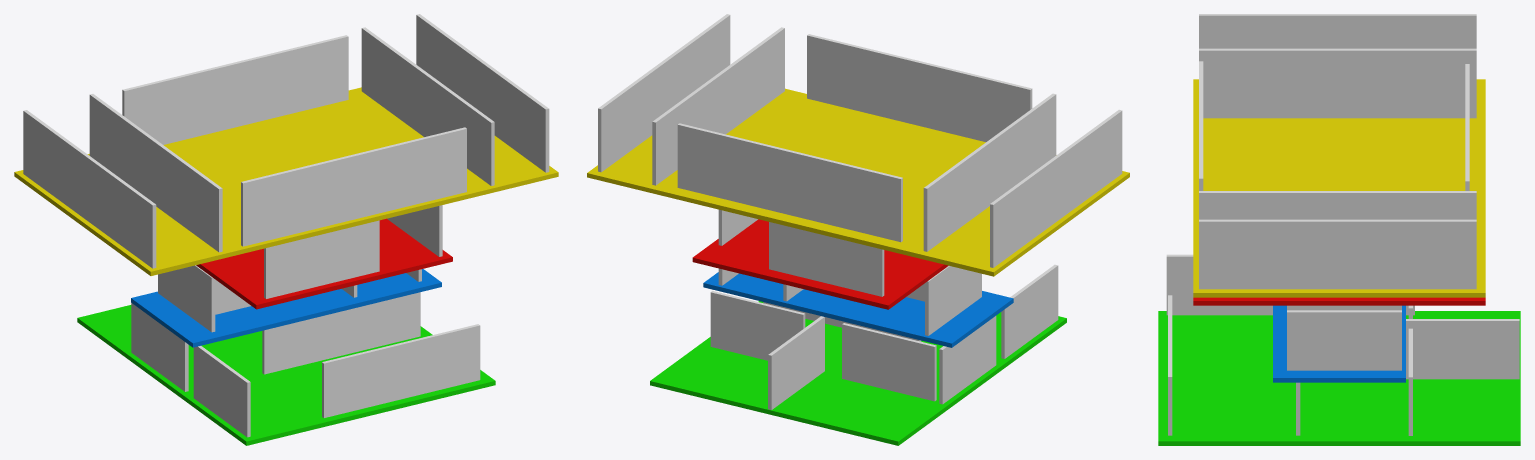
The model's file is building_01.glb.
3 views of the same model, side by side, from view 1: azimuth 30°, elevation 25°; view 2: azimuth 150°, elevation 25°; view 3: azimuth 270°, elevation 25° (orthographic). The views are drawn at different scales.
Parts seen in each view (by area): view 1: Room_04, Wall_21, Wall_20, Room_01, Wall_01, Wall_17, Wall_18, Wall_19, Wall_16, Wall_02, Room_02, Wall_12 (+6 smaller); view 2: Room_04, Room_01, Wall_20, Wall_21, Wall_17, Wall_18, Wall_16, Wall_19, Room_02, Room_03, Wall_13, Wall_04 (+6 smaller); view 3: Room_01, Room_04, Wall_16, Wall_18, Wall_17, Wall_19, Wall_09, Wall_05, Room_02, Room_03, Wall_06, Wall_01 (+4 smaller).
Boxes of the visible parts, left/top/right/bottom form: Room_04: left=14, top=87, right=558, bottom=275; Wall_21: left=241, top=127, right=466, bottom=246; Wall_20: left=122, top=35, right=348, bottom=144; Room_01: left=77, top=305, right=495, bottom=445; Wall_01: left=322, top=324, right=480, bottom=417; Wall_17: left=23, top=110, right=156, bottom=268; Wall_18: left=89, top=94, right=222, bottom=252; Wall_19: left=361, top=27, right=494, bottom=185; Wall_16: left=416, top=14, right=549, bottom=172; Wall_02: left=262, top=292, right=420, bottom=374; Room_02: left=131, top=269, right=441, bottom=347; Wall_12: left=264, top=220, right=379, bottom=298; Room_04: left=587, top=88, right=1129, bottom=276; Room_01: left=650, top=301, right=1066, bottom=445; Wall_20: left=677, top=123, right=902, bottom=242; Wall_21: left=807, top=34, right=1032, bottom=141; Wall_17: left=990, top=109, right=1122, bottom=267; Wall_18: left=923, top=93, right=1056, bottom=251; Wall_16: left=598, top=14, right=730, bottom=172; Wall_19: left=652, top=27, right=784, bottom=185; Room_02: left=703, top=272, right=1013, bottom=347; Room_03: left=692, top=219, right=948, bottom=309; Wall_13: left=769, top=222, right=884, bottom=296; Wall_04: left=842, top=323, right=936, bottom=401; Room_01: left=1158, top=311, right=1520, bottom=445; Room_04: left=1193, top=79, right=1485, bottom=297; Wall_16: left=1199, top=219, right=1476, bottom=289; Wall_18: left=1199, top=48, right=1476, bottom=118; Wall_17: left=1199, top=14, right=1476, bottom=48; Wall_19: left=1199, top=191, right=1476, bottom=219; Wall_09: left=1287, top=310, right=1401, bottom=370; Wall_05: left=1406, top=319, right=1519, bottom=379; Room_02: left=1273, top=305, right=1405, bottom=382; Room_03: left=1193, top=297, right=1485, bottom=305; Wall_06: left=1166, top=254, right=1272, bottom=315; Wall_01: left=1168, top=295, right=1172, bottom=435.
Bounding box in the file's own units: 14.46 × 8.29 × 10.38.
